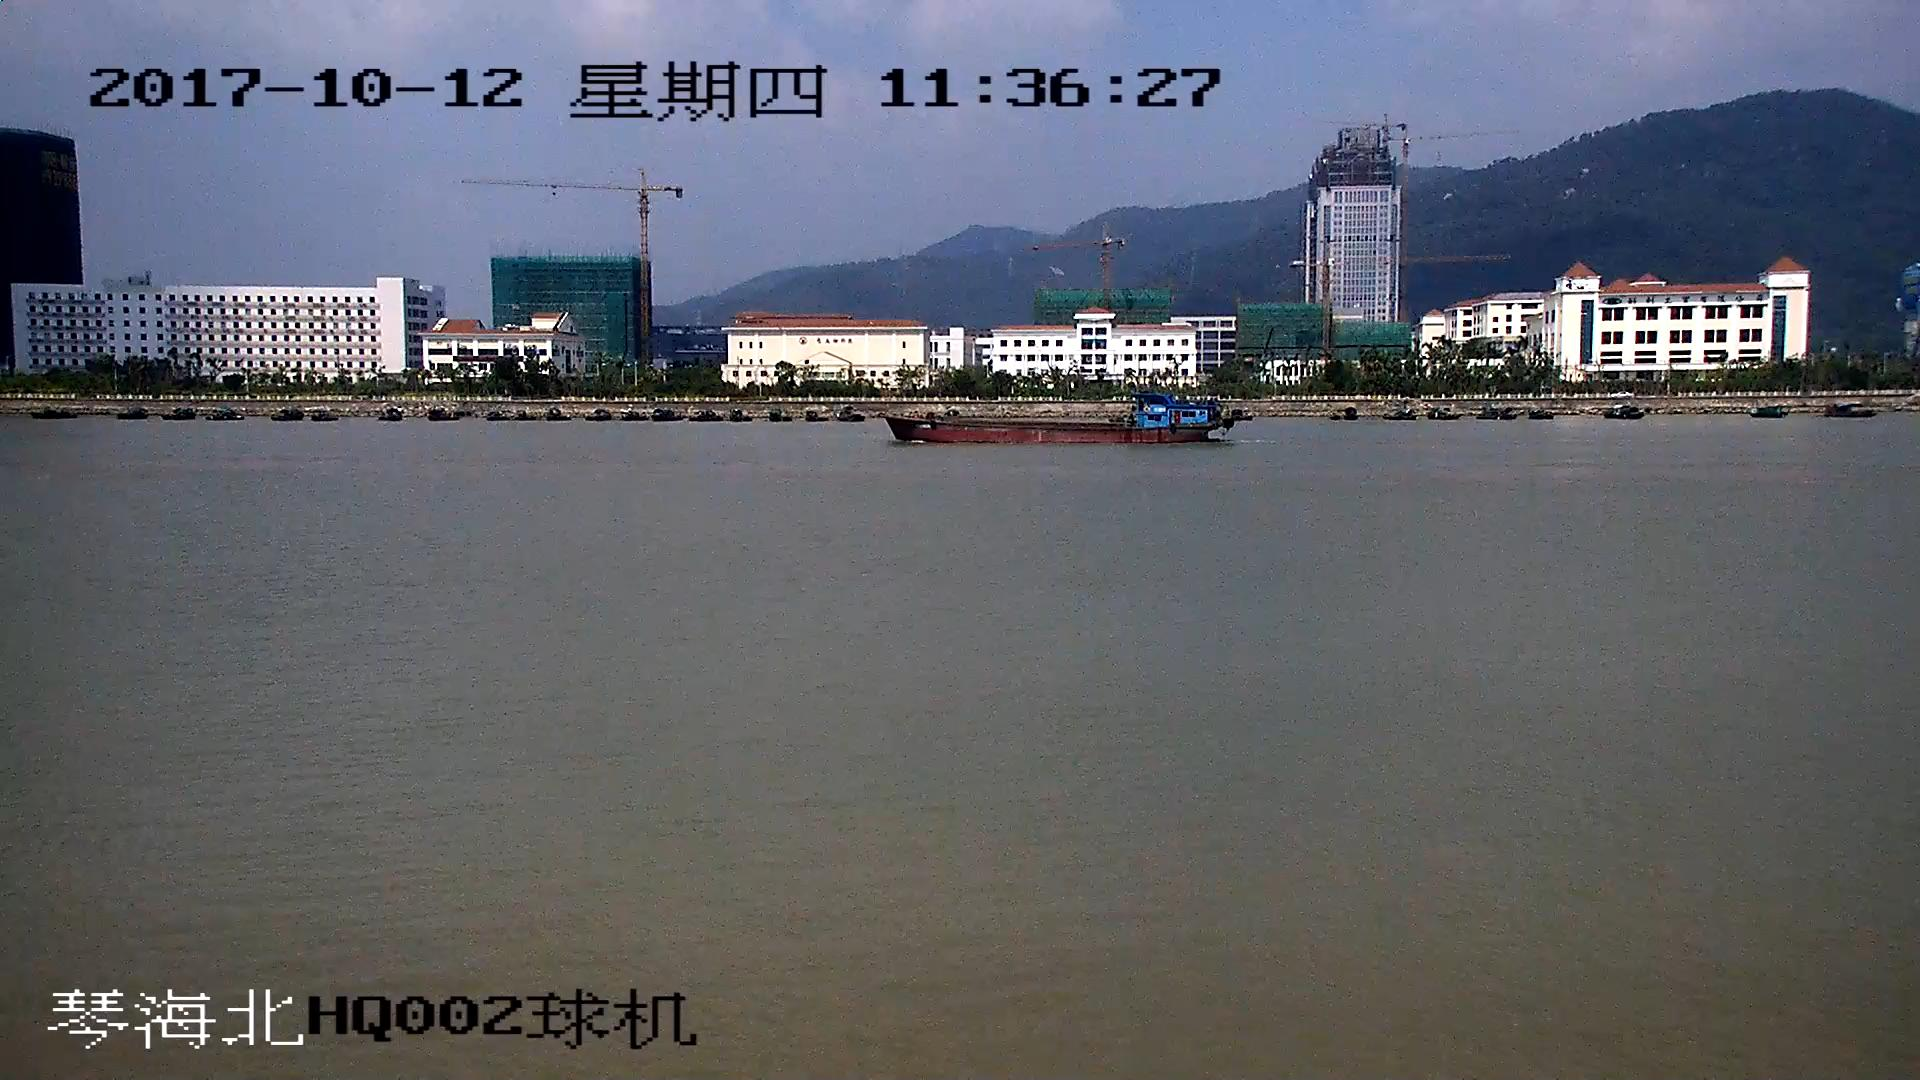bulk cargo carrier: (888, 382, 1240, 442)
